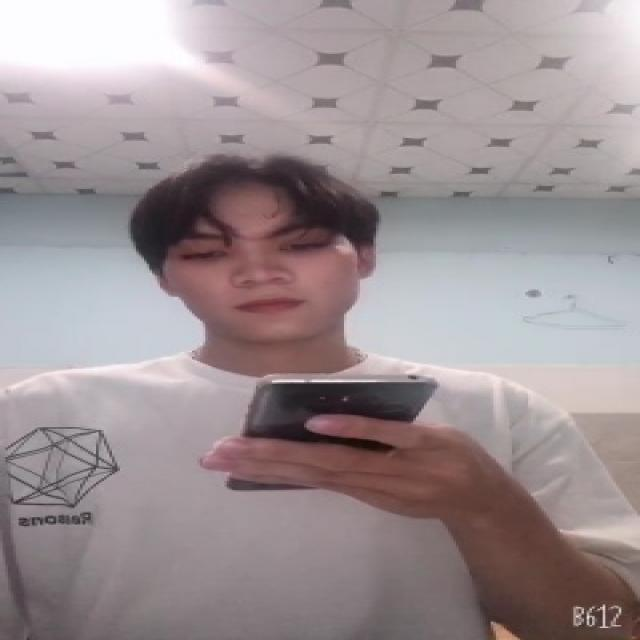Phone: (221, 374, 443, 498)
